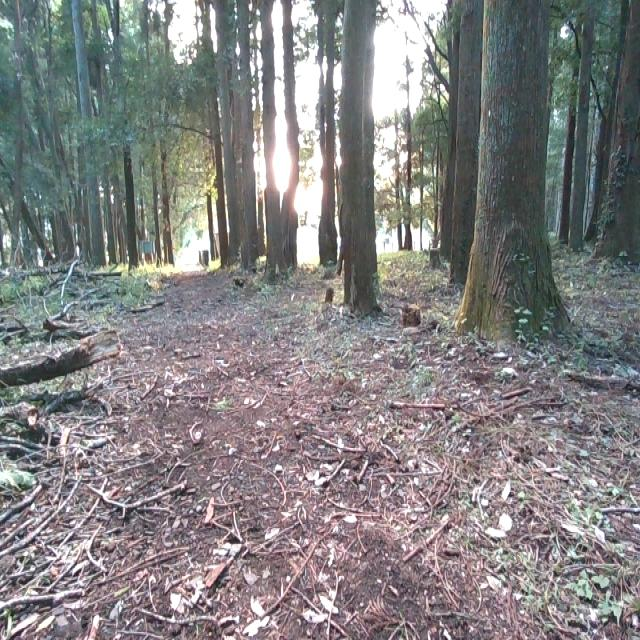tree: (459, 0, 579, 347), (337, 0, 394, 315), (441, 0, 487, 291), (259, 0, 304, 280), (595, 0, 640, 264), (216, 0, 257, 275), (68, 0, 109, 269), (110, 0, 148, 271), (0, 0, 34, 272), (144, 0, 176, 269), (0, 323, 136, 384), (393, 0, 418, 251), (319, 0, 340, 267)
